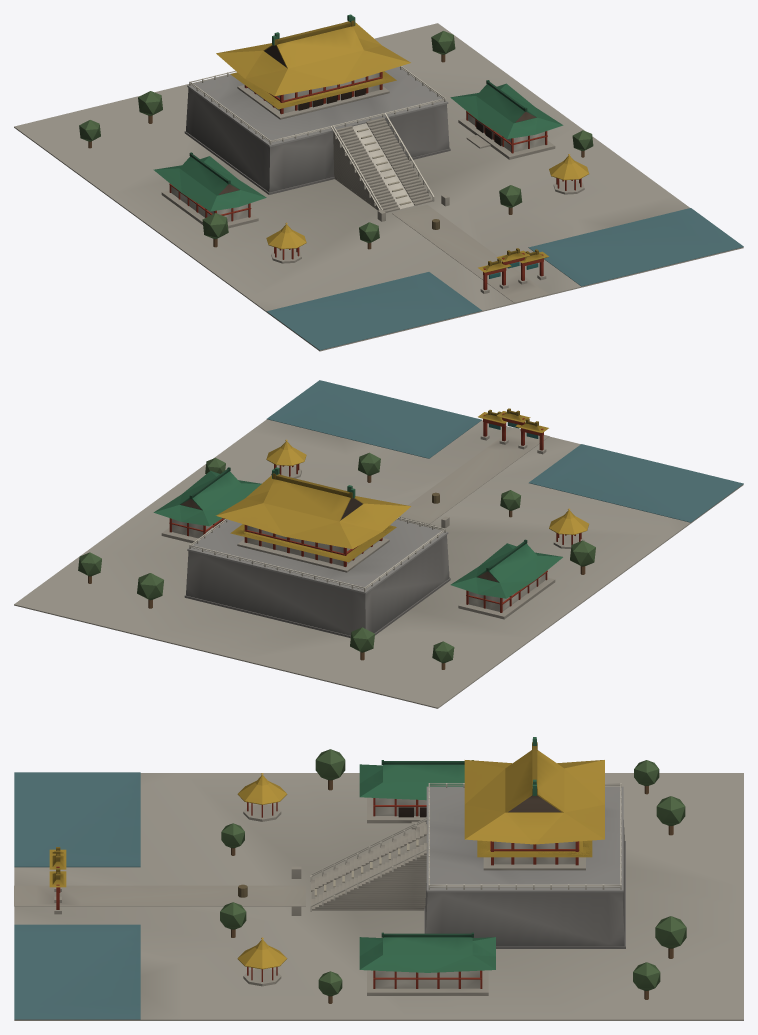
File: dragon-pavilion.glb
The picture shows the model from 3 angles, top to bottom: view 1: azimuth 30°, elevation 25°; view 2: azimuth 150°, elevation 25°; view 3: azimuth 270°, elevation 25°; orthographic projection. The views are drawn at different scales.
Parts seen in each view (by area): view 1: p0_platform, p2_trees, p1_gate; view 2: p0_platform, p2_trees, p1_gate; view 3: p0_platform, p2_trees, p1_gate.
Boxes of the visible parts, x1,y1,x2,y2 form: p0_platform: (14,23,743,351); p2_trees: (79,14,593,249); p1_gate: (161,72,589,293); p0_platform: (14,380,743,708); p2_trees: (78,452,595,669); p1_gate: (161,408,588,619); p0_platform: (14,772,743,1020); p2_trees: (220,737,686,1003); p1_gate: (49,773,585,995).
Size of the model in its own units: 120 by 31.38 by 150.
